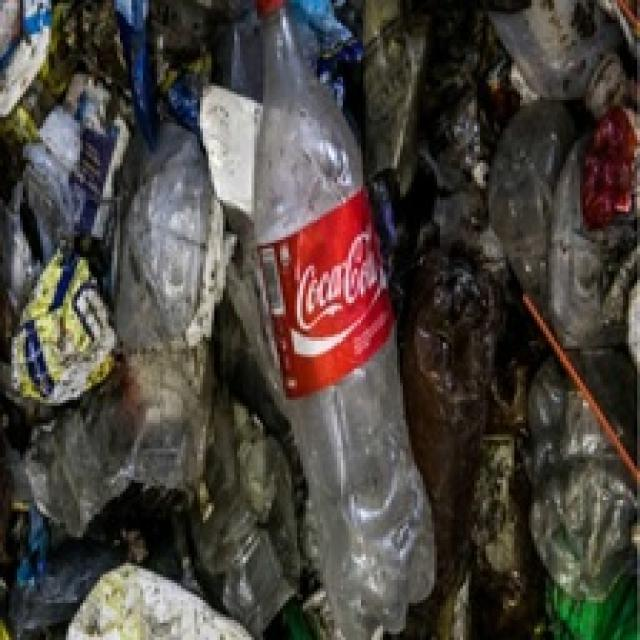Plastic: (246, 0, 438, 640)
